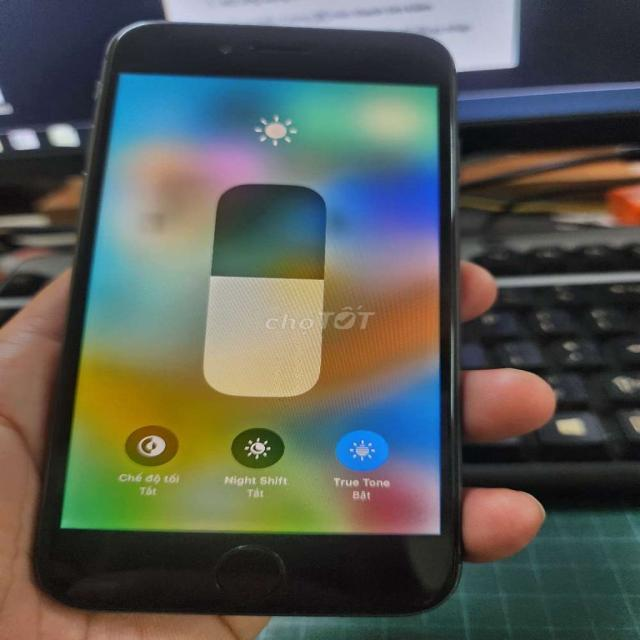gen_7_8: (17, 6, 476, 635)
